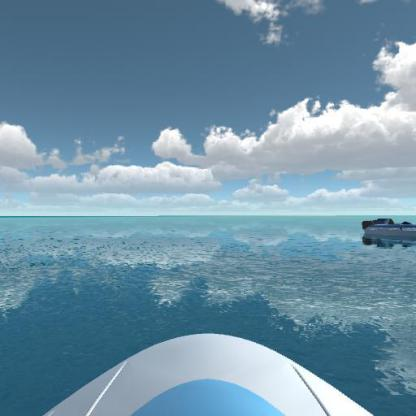usv1: (355, 214, 415, 252)
